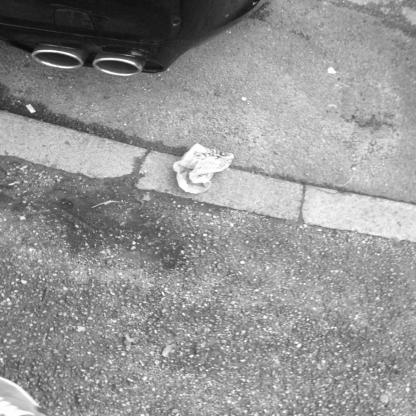plastic: (172, 144, 234, 193)
